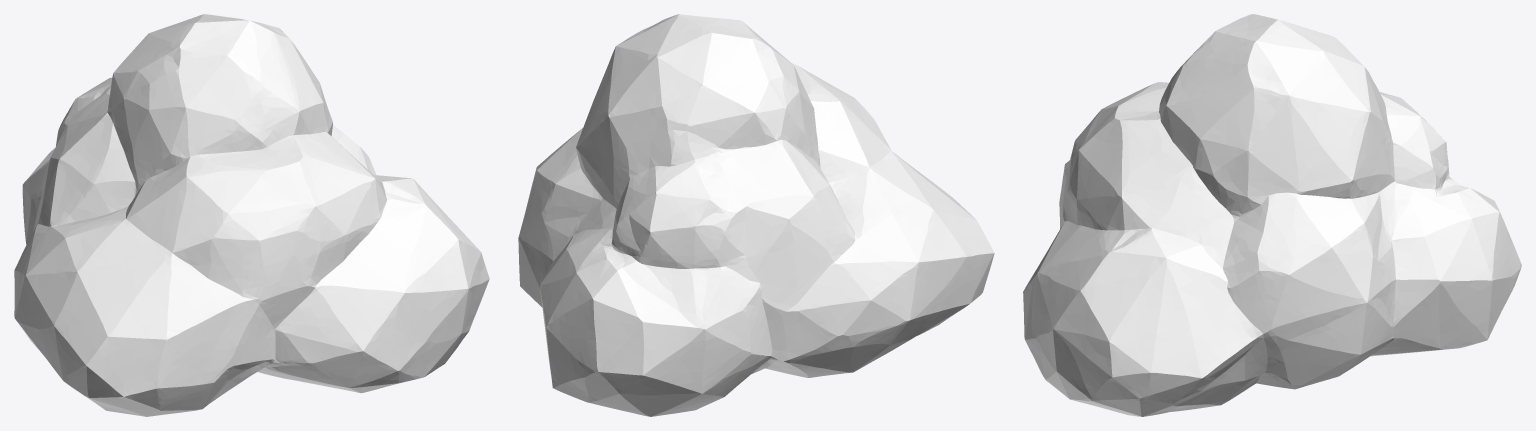
Rendered from cloud.fbx.
3 renders of one model, left to right at view 1: azimuth 30°, elevation 25°; view 2: azimuth 150°, elevation 25°; view 3: azimuth 270°, elevation 25°, orthographic.
Visible parts, largest first — view 1: temp; view 2: temp; view 3: temp.
Part boxes in pixels (left/top/right/bottom): temp: left=14, top=14, right=489, bottom=416; temp: left=518, top=14, right=994, bottom=416; temp: left=1023, top=14, right=1521, bottom=416.
Size of the model in its own units: 195 by 143 by 200.
Materials: 1 (1 with a texture image).
